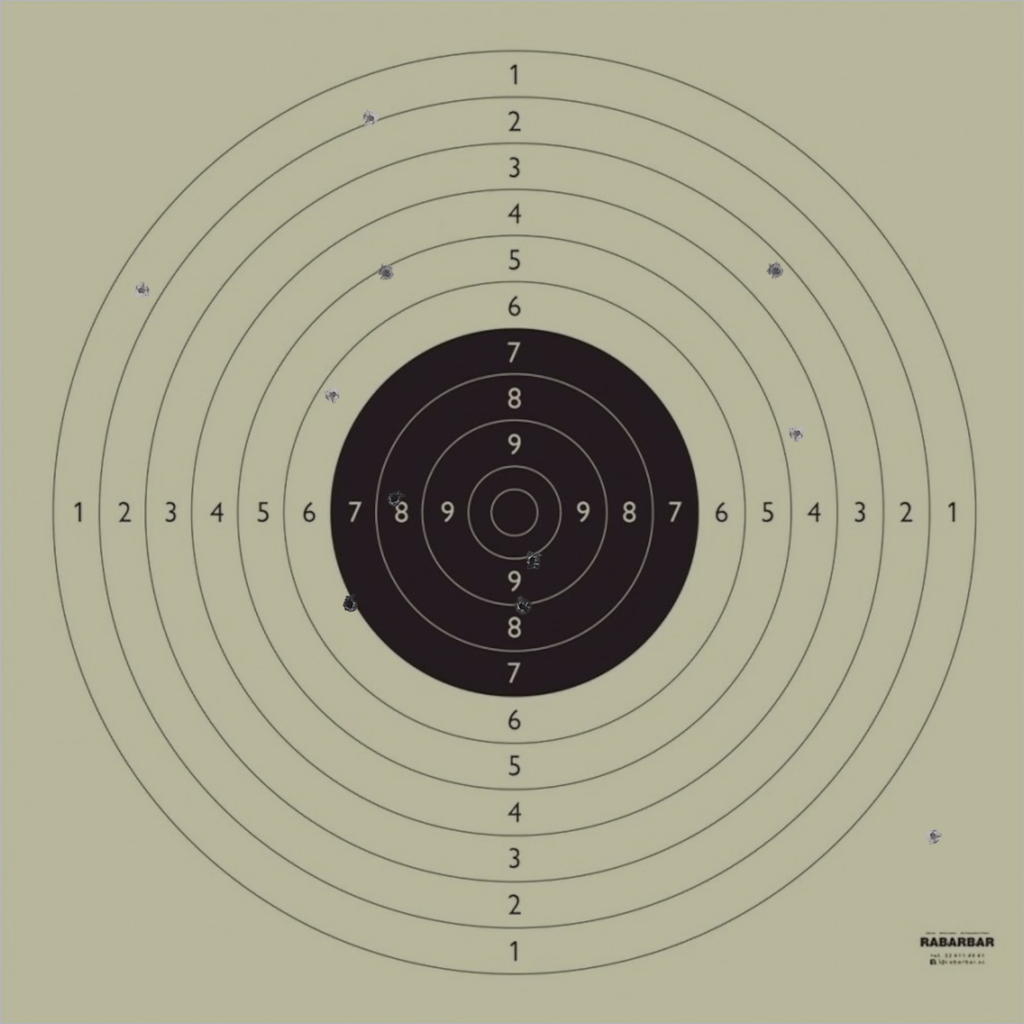0 punktow: (924, 827, 943, 845)
1 punkt: (132, 281, 151, 299)
10 punktow: (523, 552, 542, 570)
2 punkty: (361, 109, 380, 128)
3 punkty: (767, 262, 785, 280)
4 punkty: (788, 424, 806, 443)
5 punktow: (377, 264, 395, 282)
6 punktow: (324, 386, 342, 404)
7 punktow: (341, 595, 359, 613)
8 punktow: (386, 489, 404, 508)
9 punktow: (513, 597, 531, 615)
